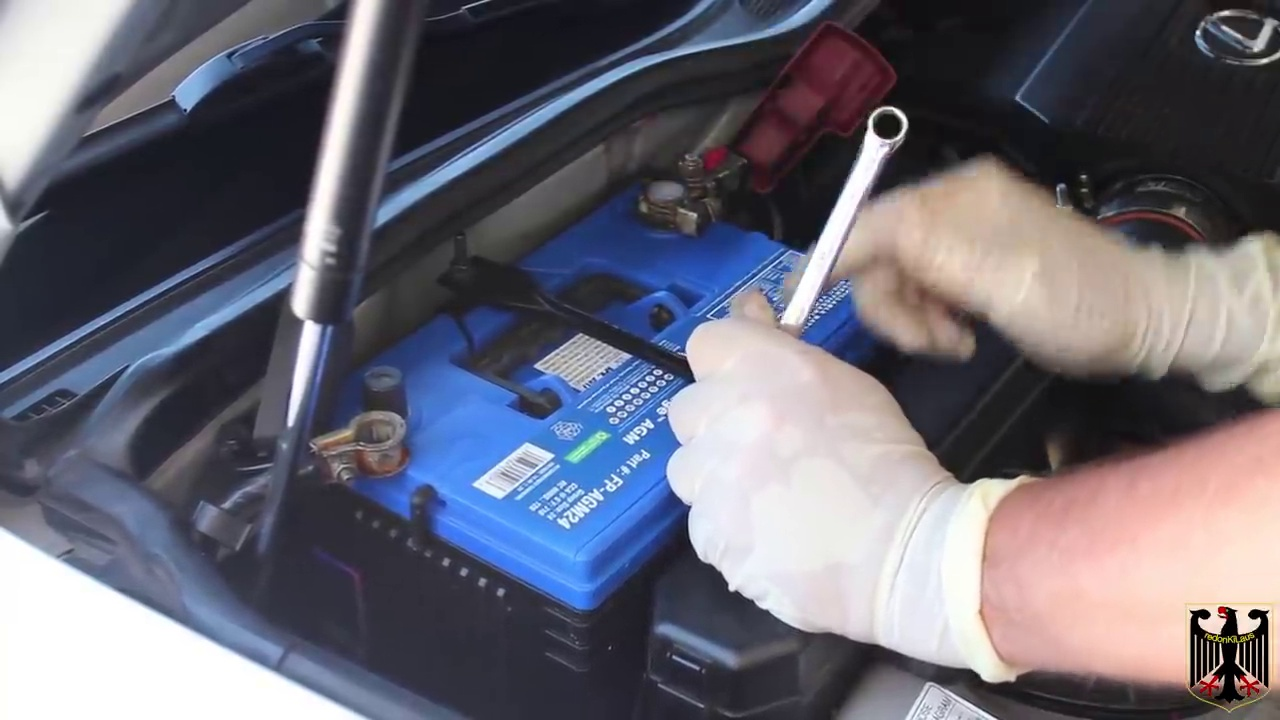battery: (304, 169, 867, 584)
pos_connected: (630, 46, 850, 241)
